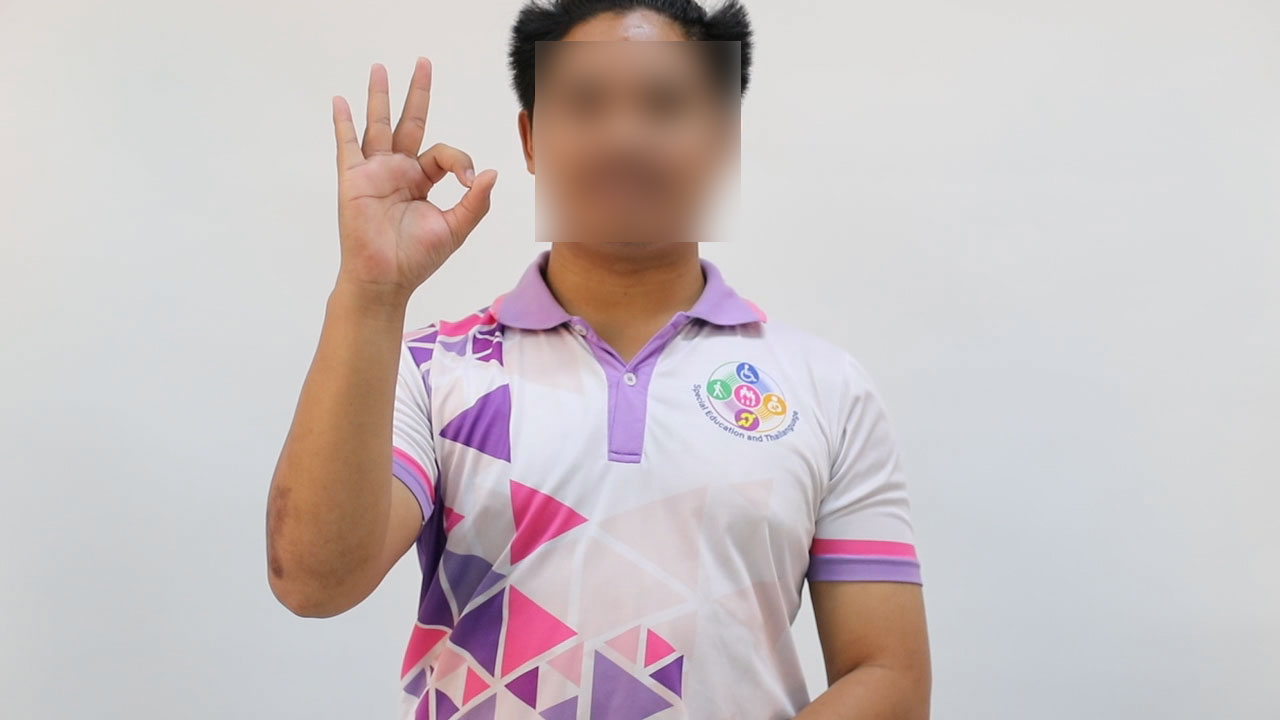for: (309, 47, 504, 325)
